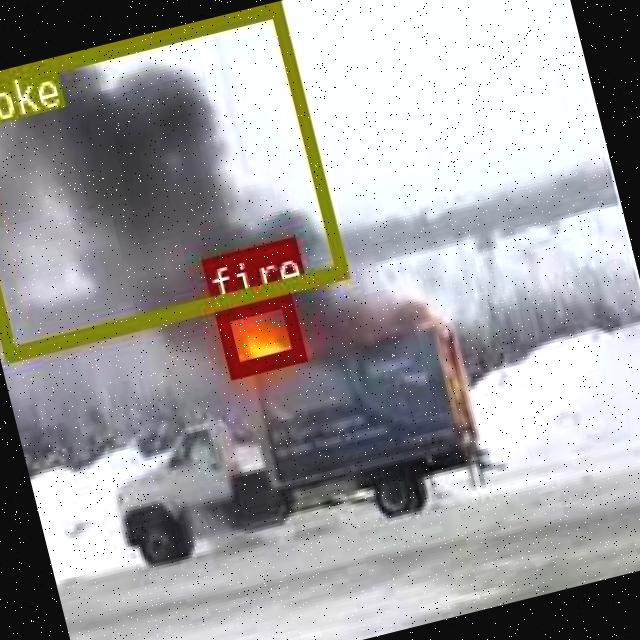fire: (213, 291, 302, 375)
smoke: (0, 0, 346, 360)
